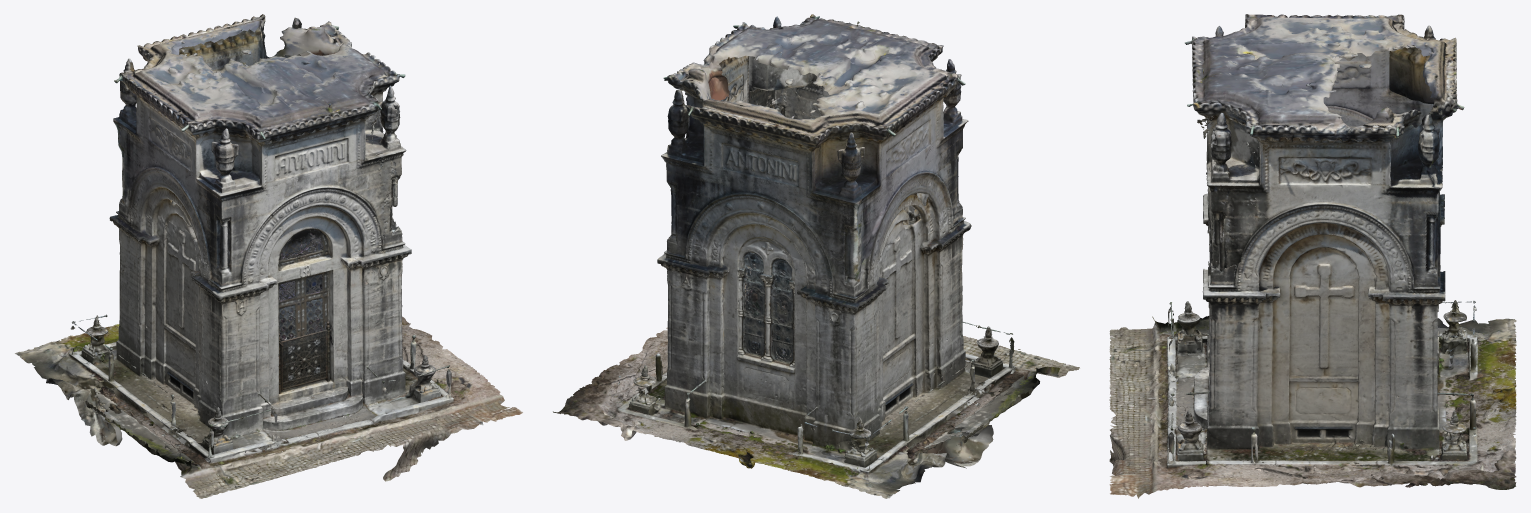
The model's file is antonini-web.glb.
The picture shows the model from 3 angles, left to right: view 1: azimuth 30°, elevation 25°; view 2: azimuth 150°, elevation 25°; view 3: azimuth 270°, elevation 25°; orthographic projection. The views are drawn at different scales.
Parts seen in each view (by area): view 1: Cappella Antonini — modello derivato per consultazione web; view 2: Cappella Antonini — modello derivato per consultazione web; view 3: Cappella Antonini — modello derivato per consultazione web.
Boxes of the visible parts, box(x1,y1,x2,y2) form: Cappella Antonini — modello derivato per consultazione web: box(15, 14, 522, 498); Cappella Antonini — modello derivato per consultazione web: box(553, 14, 1079, 498); Cappella Antonini — modello derivato per consultazione web: box(1109, 14, 1516, 498).
Size of the model in its own units: 6.99 by 7.26 by 6.95.
1 material, 1 textured.
